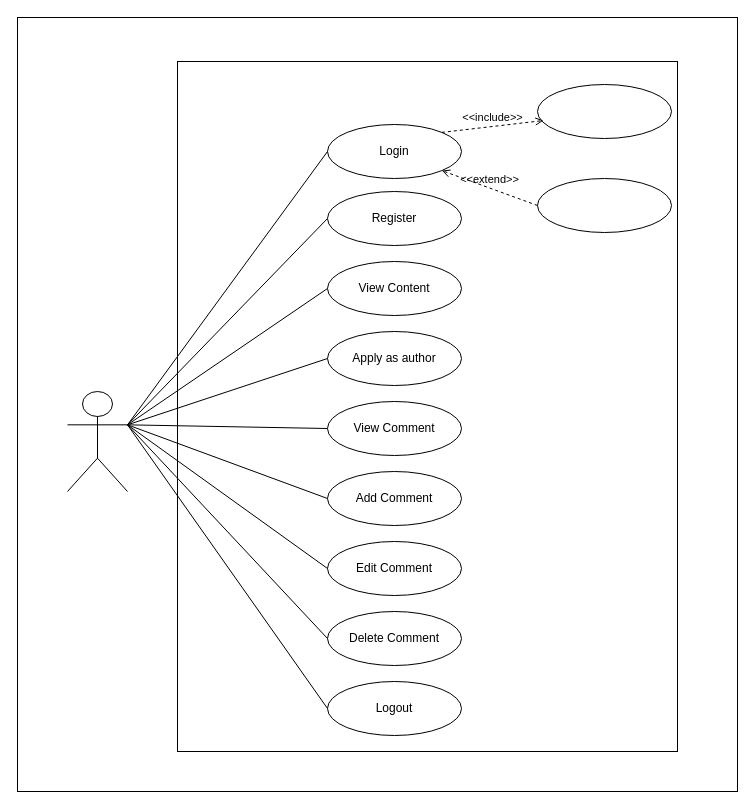
Some shapes in this 755 by 809 pixel diagram are drawn without their labels. Here are the shapes that lost their labels. From the top down, the centre of each, then its label:
pixel 604 111: Check Validity
pixel 604 205: Display Error
pixel 97 441: Viewer
